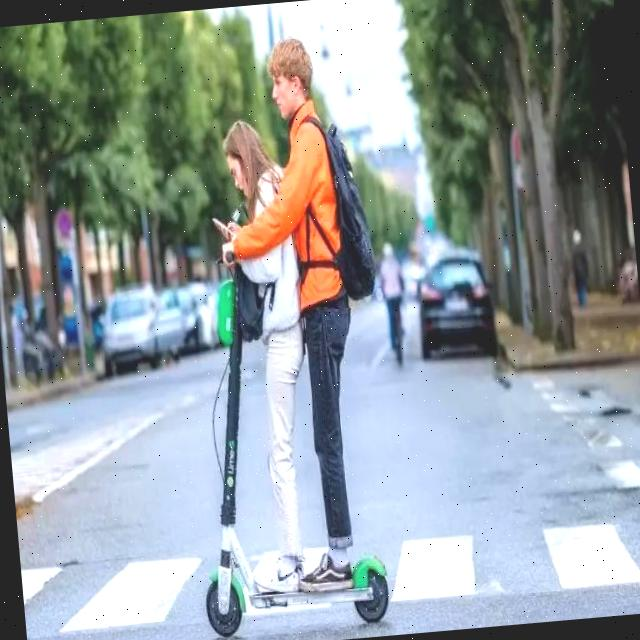bare_head: (266, 31, 318, 131), (225, 111, 273, 204)
human: (264, 35, 377, 590), (213, 108, 308, 592)
kickboard: (185, 538, 423, 640)
